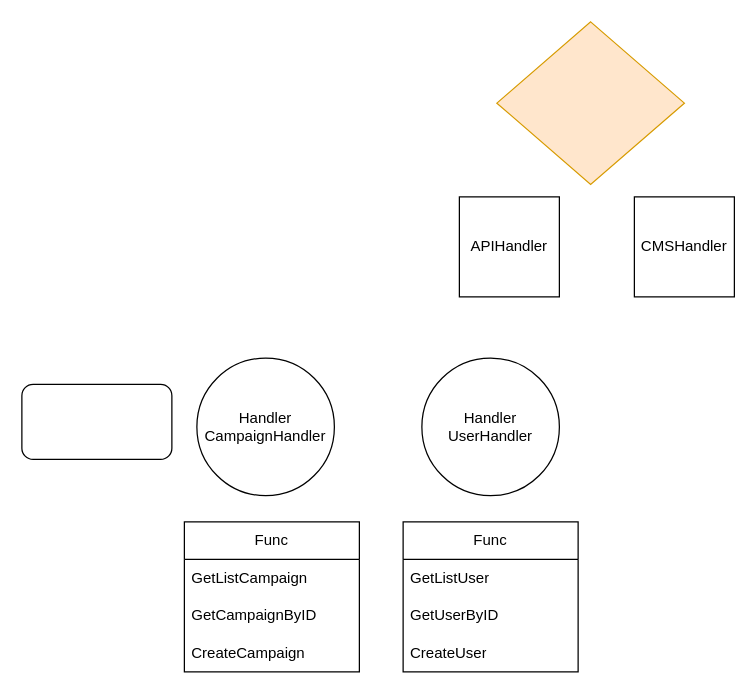
Some shapes in this 756 by 694 pixel diagram are drawn without their labels. The shapes that lost their labels are listed below. From the top down, each one's centre as x and y in pixels, then its label:
At (x=590, y=102): "wrapper handler".
At (x=96, y=421): "Constructor NewCampaignHandler".
